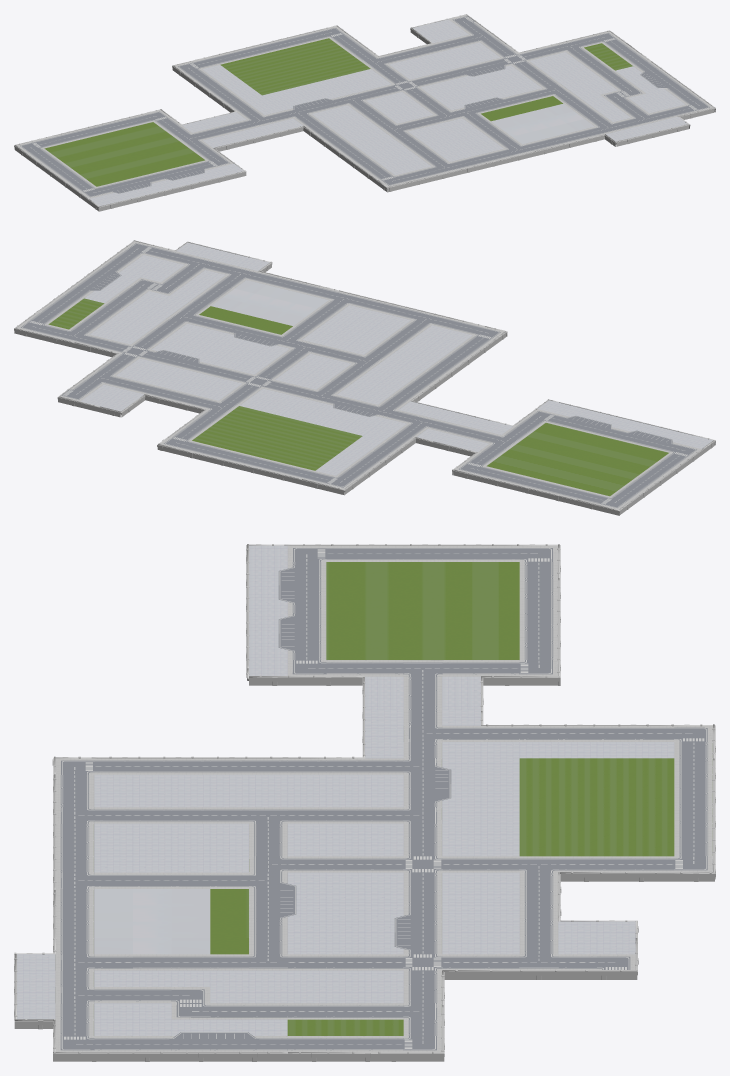
The model's file is hengbing_dibiao_1.fbx.
3 views of the same model, one above another, from view 1: azimuth 30°, elevation 25°; view 2: azimuth 150°, elevation 25°; view 3: azimuth 270°, elevation 25° (orthographic). The views are drawn at different scales.
Visible parts, largest first — view 1: hengbing_1.008, 001, tingche, 002; view 2: hengbing_1.008, 001, tingche, 002; view 3: hengbing_1.008, 001, tingche, 002.
Boxes of the visible parts, left/top/right/bottom form: hengbing_1.008: left=16, top=15, right=713, bottom=206; 001: left=14, top=14, right=715, bottom=211; tingche: left=110, top=64, right=668, bottom=193; 002: left=32, top=17, right=697, bottom=191; hengbing_1.008: left=17, top=241, right=712, bottom=509; 001: left=14, top=240, right=715, bottom=515; tingche: left=89, top=271, right=673, bottom=444; 002: left=30, top=247, right=687, bottom=503; hengbing_1.008: left=17, top=545, right=712, bottom=1051; 001: left=14, top=544, right=715, bottom=1061; tingche: left=169, top=566, right=451, bottom=1039; 002: left=64, top=549, right=704, bottom=1048.
Size of the model in its own units: 31147 by 264 by 18148.
